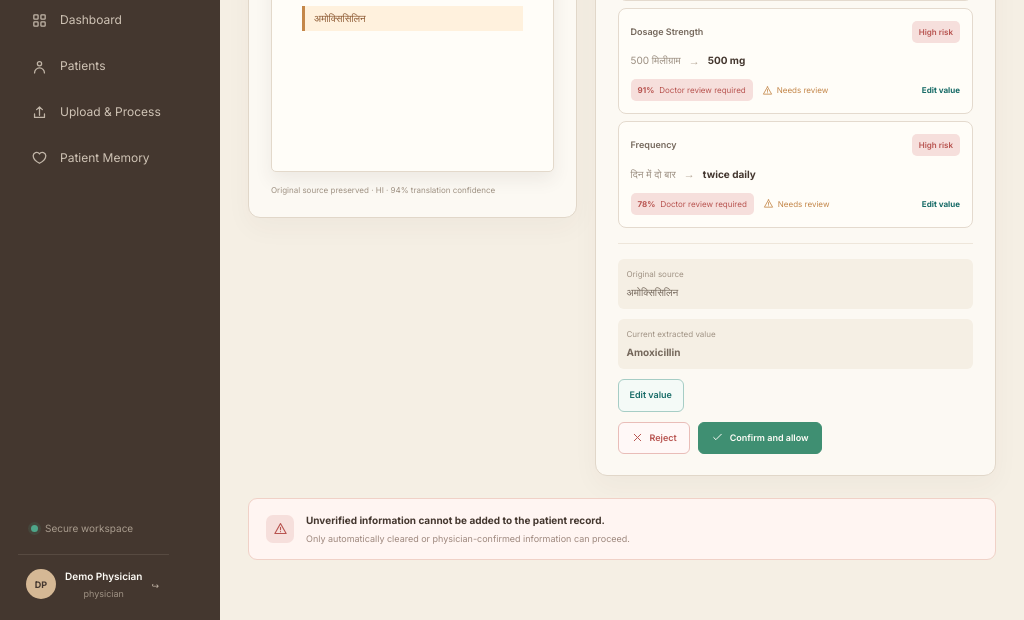
Test: Step 1 physician correction › allows a physician to edit, preserve the original, and confirm a correction
The image size is (1024, 620).
(page scrolled)
Click the button "Edit value" at [651, 395], box [618, 378, 684, 412]
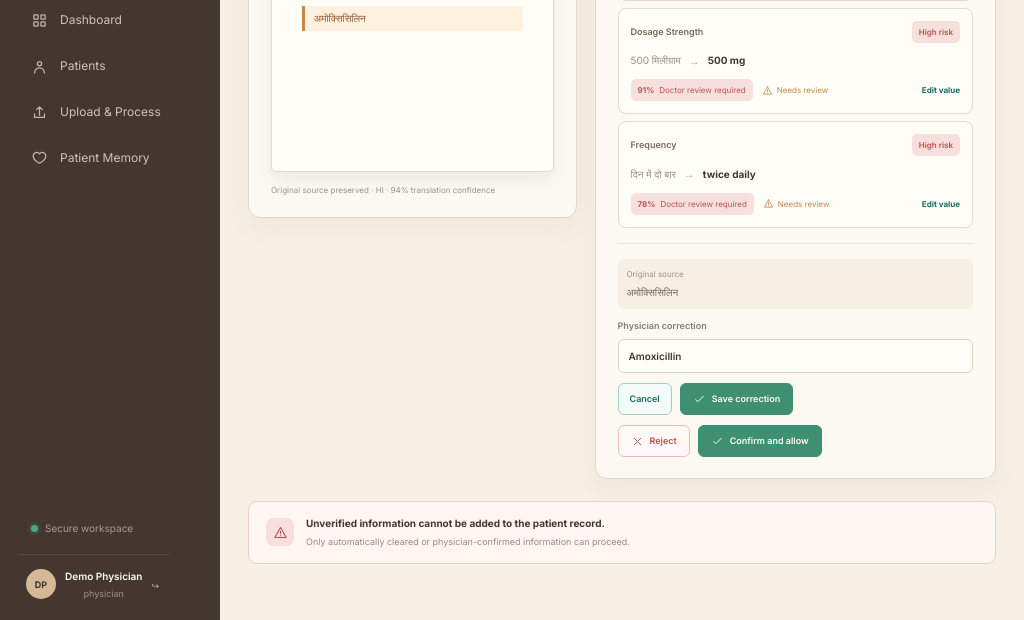
Replace the text in the field labelled "Physician correction" with "Amoxicillin 500 mg" at [795, 356], box [618, 339, 973, 373]
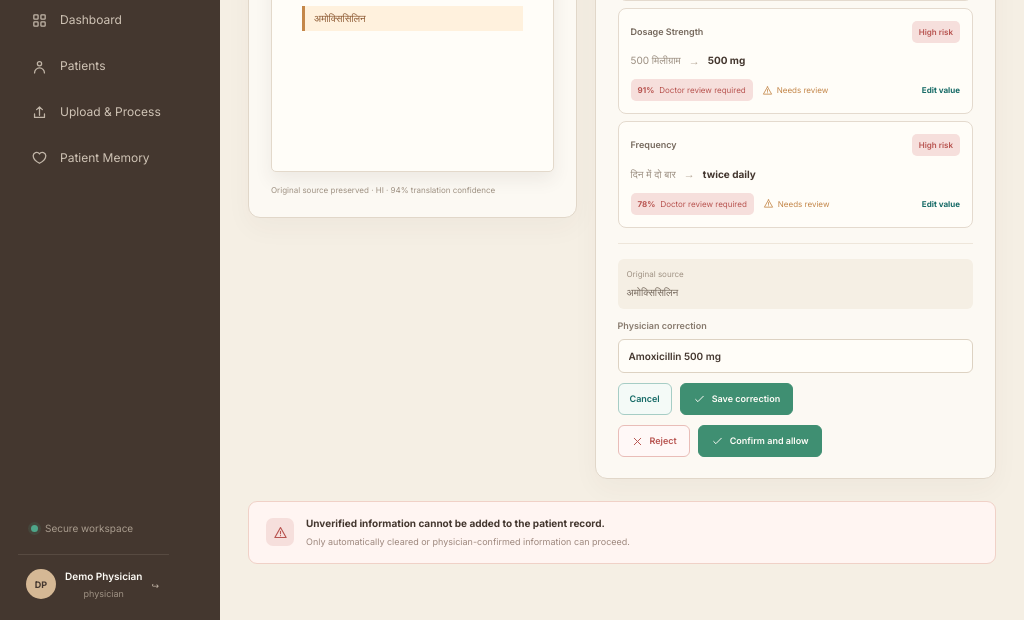
Click the button "Save correction" at [736, 399], box [680, 383, 793, 415]
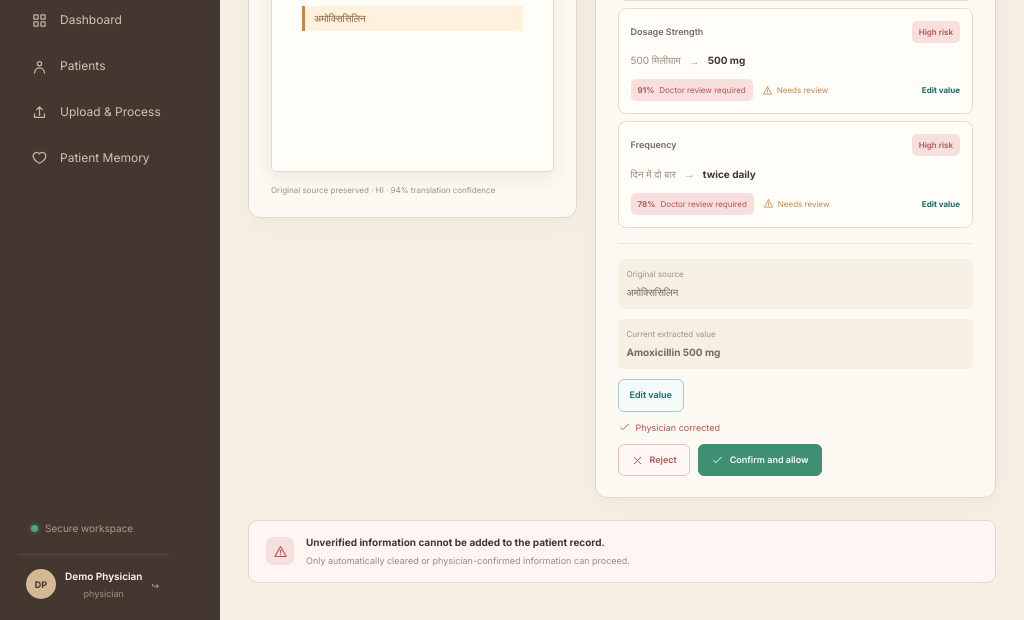
Expected: the text "अमोक्सिसिलिन" below "MEDFLOW SCAN" is shown, [314, 12, 366, 24]
Expected: the text "Physician corrected" is shown, [618, 421, 720, 434]
Click the button "Confirm and allow" at [760, 460], box [698, 444, 822, 476]
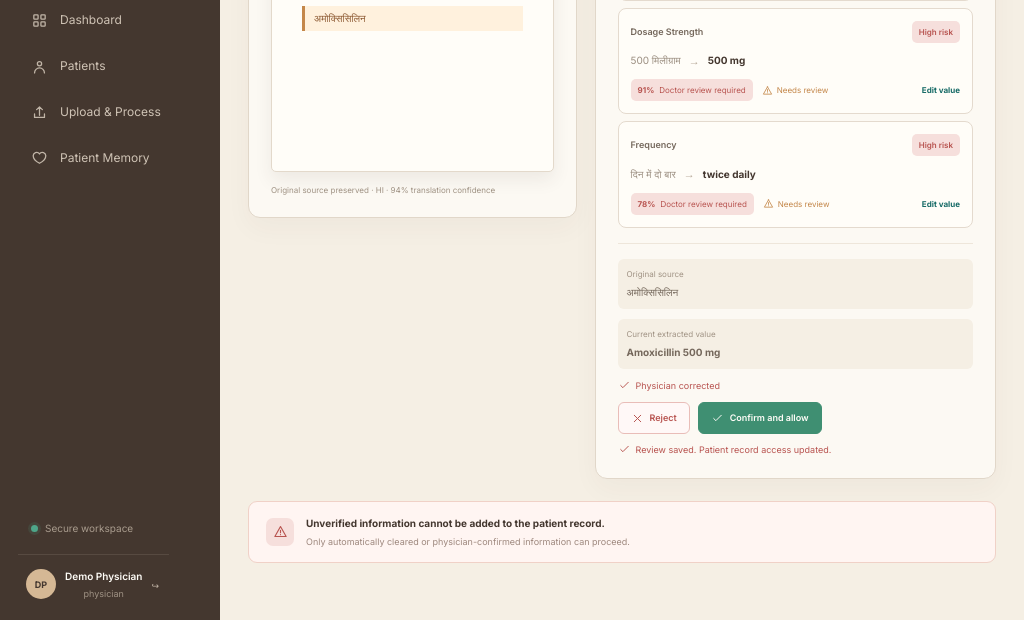
Expected: the text "Review saved. Patient record access updated." is shown, [618, 443, 831, 456]
